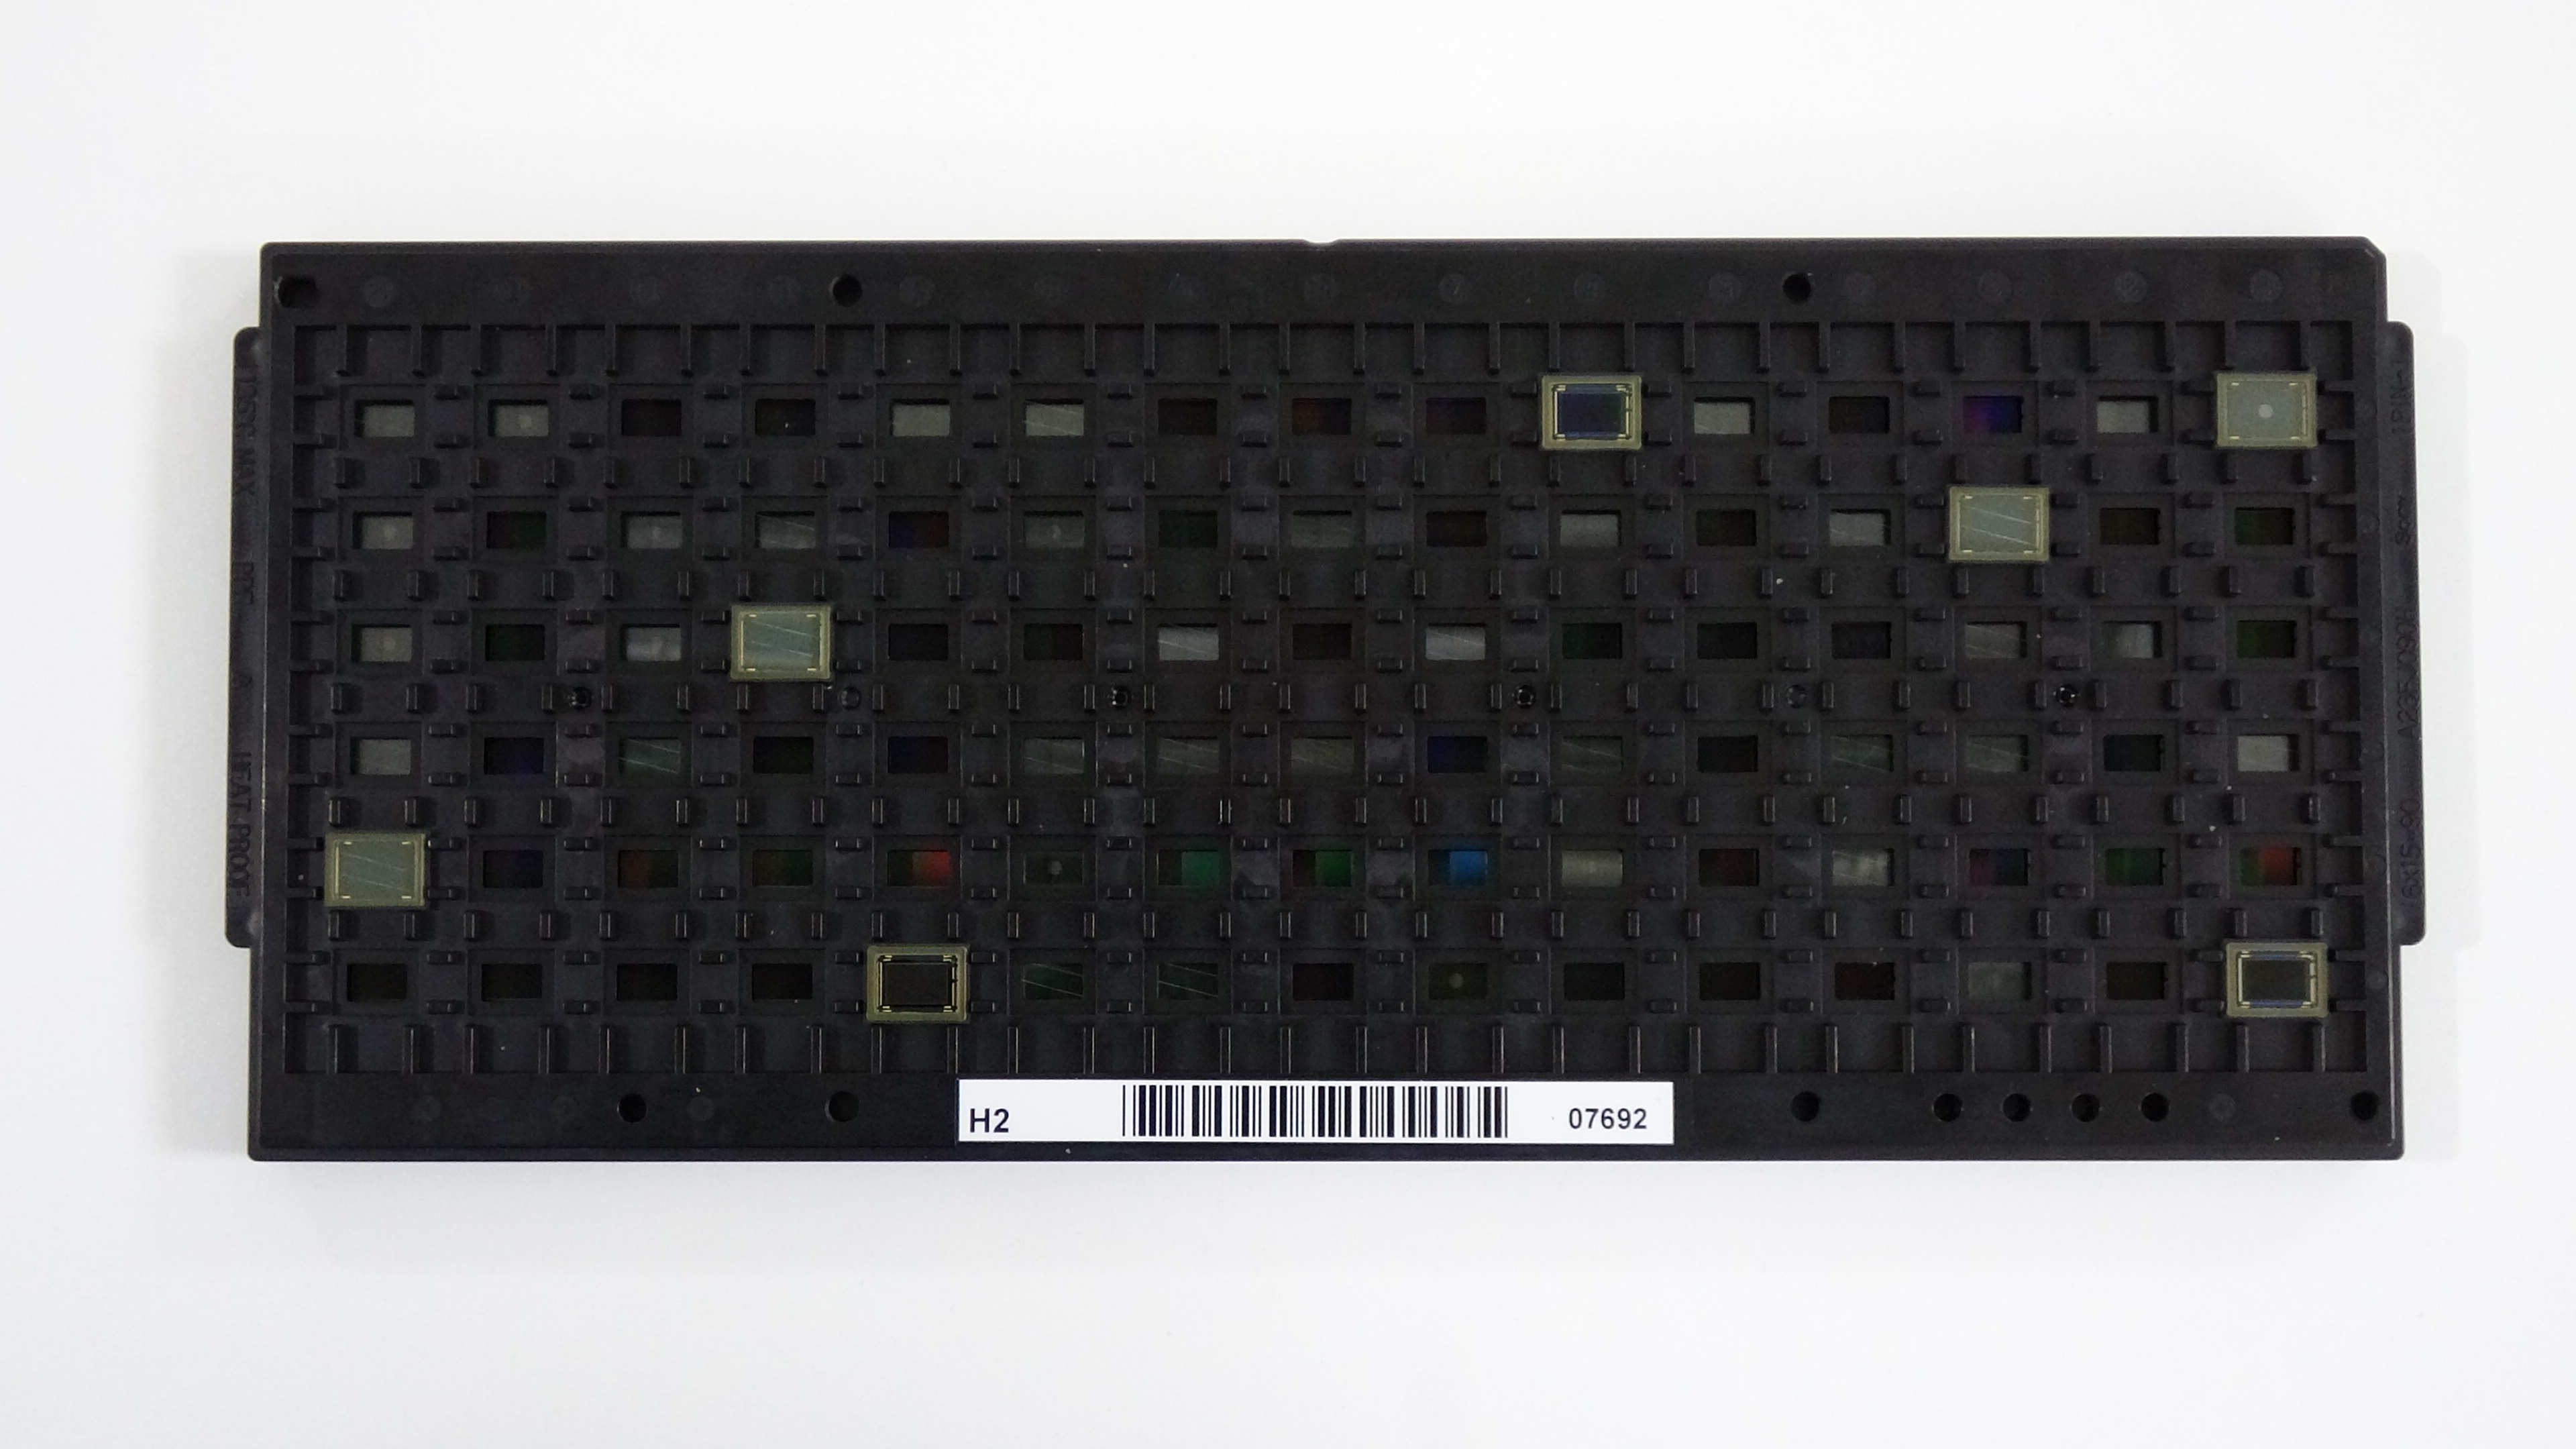Bad_mark_from_BMS_mold: (725, 598, 833, 683), (322, 826, 428, 909), (1946, 483, 2049, 563)
Bad_mark_from_Maker: (2215, 368, 2312, 451)
